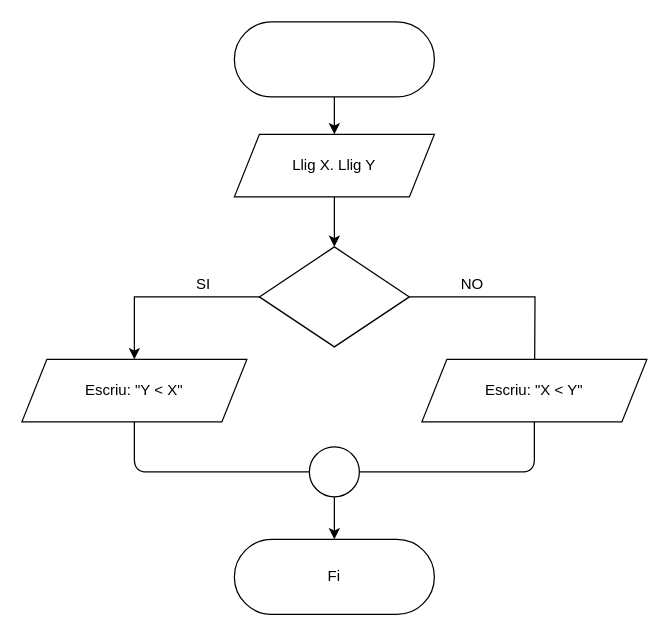
Image size: 669x636. Some labels were removed from this diagram. The shapes that lost their labels are listed below. From the top down, each one's centre as x and y in pixels, then its label:
At point (333, 59): "Inici".
At point (333, 296): "X > Y".
